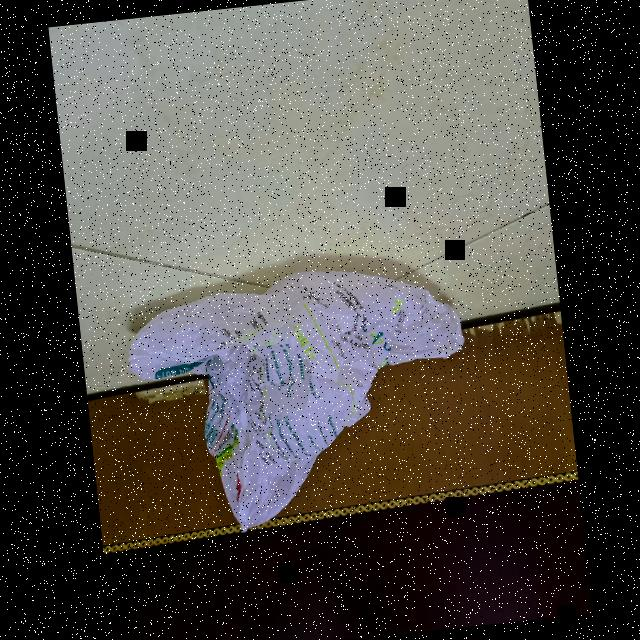plastic_bag: (111, 245, 492, 558)
